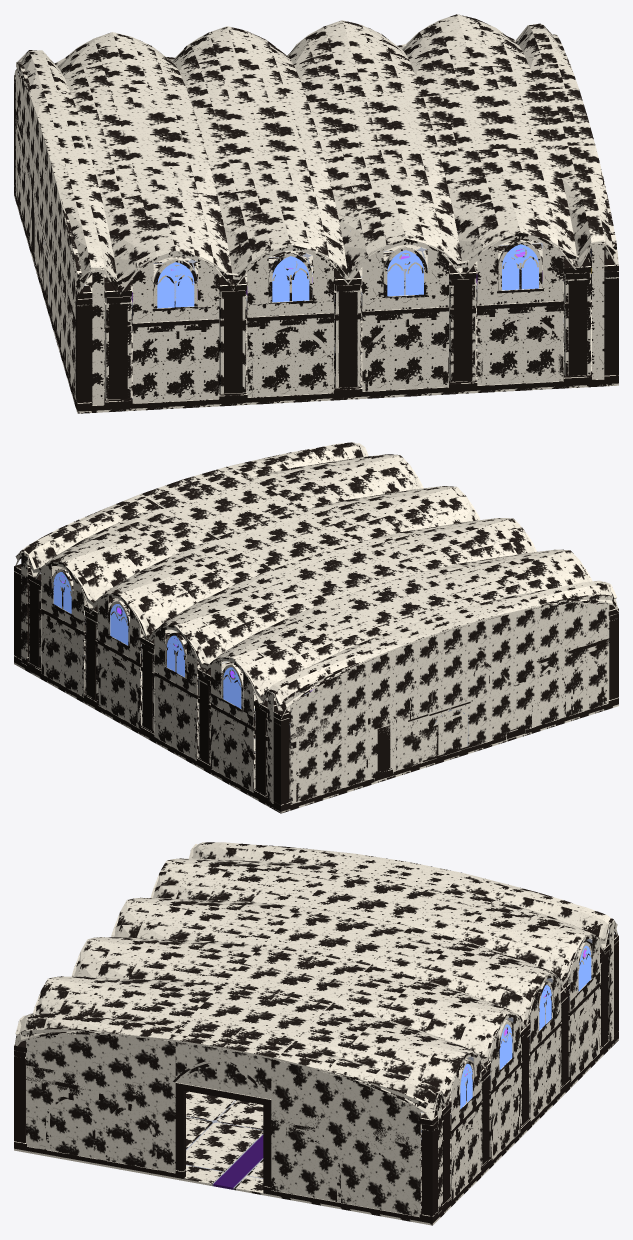
The model's file is ILHA3_03_MINING_HALL_4ec5f0.fbx.
3 views of the same model, one above another, from view 1: azimuth 30°, elevation 25°; view 2: azimuth 150°, elevation 25°; view 3: azimuth 270°, elevation 25° (orthographic). The views are drawn at different scales.
Parts seen in each view (by area): view 1: SG_Hall_Vault__Stone_SGHallVault, SG_Hall_Piers__Stone_SG_Castle, SG_Hall_Piers__Stone_SG_Castle_B, SG_Hall_Piers__Stone_SG_Obsidian, SG_Hall_Windows__Glass_SGHallMoon, SG_Hall_Piers__Stone_SG_Trim, SG_Hall_Piers__Stone_SGHallNiche, SG_Hall_Vault__Stone_SG_Obsidian, SG_Hall_Windows__Stone_SG_Trim, SG_Hall_Floor__Stone_SG_Obsidian, SG_Hall_Floor__Stone_SG_MarbleBlack; view 2: SG_Hall_Vault__Stone_SGHallVault, SG_Hall_Piers__Stone_SG_Castle, SG_Hall_Piers__Stone_SG_Castle_B, SG_Hall_Piers__Stone_SG_Obsidian, SG_Hall_Piers__Stone_SG_Trim, SG_Hall_Piers__Stone_SGHallNiche, SG_Hall_Windows__Glass_SGHallMoon, SG_Hall_Vault__Stone_SG_Obsidian, SG_Hall_Floor__Stone_SG_Obsidian, SG_Hall_Altar__Stone_SGHallNiche, SG_Hall_Windows__Stone_SG_Trim, SG_Hall_Throne__Stone_SG_Obsidian (+3 smaller); view 3: SG_Hall_Vault__Stone_SGHallVault, SG_Hall_Piers__Stone_SG_Castle, SG_Hall_Piers__Stone_SG_Castle_B, SG_Hall_Piers__Stone_SG_Obsidian, SG_Hall_Piers__Stone_SG_Trim, SG_Hall_Floor__Stone_SG_MarbleBlack, SG_Hall_Piers__Stone_SGHallNiche, SG_Hall_Floor__Stone_SG_Obsidian, SG_Hall_Vault__Stone_SG_Obsidian, SG_Hall_Windows__Glass_SGHallMoon, SG_Hall_Windows__Stone_SG_Trim, SG_Hall_Floor__Cloth_SG_Purple.
Part boxes in pixels (x1,y1,x2,y2): SG_Hall_Vault__Stone_SGHallVault: (14, 14, 618, 298); SG_Hall_Piers__Stone_SG_Castle: (14, 73, 618, 405); SG_Hall_Piers__Stone_SG_Castle_B: (127, 243, 568, 398); SG_Hall_Piers__Stone_SG_Obsidian: (14, 114, 618, 411); SG_Hall_Windows__Glass_SGHallMoon: (157, 244, 538, 308); SG_Hall_Piers__Stone_SG_Trim: (14, 75, 618, 401); SG_Hall_Piers__Stone_SGHallNiche: (15, 102, 610, 323); SG_Hall_Vault__Stone_SG_Obsidian: (16, 21, 616, 286); SG_Hall_Windows__Stone_SG_Trim: (152, 239, 543, 311); SG_Hall_Floor__Stone_SG_Obsidian: (14, 194, 618, 413); SG_Hall_Floor__Stone_SG_MarbleBlack: (85, 238, 563, 397); SG_Hall_Vault__Stone_SGHallVault: (15, 442, 618, 718); SG_Hall_Piers__Stone_SG_Castle: (21, 552, 618, 804); SG_Hall_Piers__Stone_SG_Castle_B: (14, 560, 273, 803); SG_Hall_Piers__Stone_SG_Obsidian: (14, 575, 618, 811); SG_Hall_Piers__Stone_SG_Trim: (14, 564, 618, 802); SG_Hall_Piers__Stone_SGHallNiche: (41, 570, 609, 738); SG_Hall_Windows__Glass_SGHallMoon: (53, 572, 241, 708); SG_Hall_Vault__Stone_SG_Obsidian: (15, 443, 617, 706); SG_Hall_Floor__Stone_SG_Obsidian: (14, 629, 618, 813); SG_Hall_Altar__Stone_SGHallNiche: (396, 653, 492, 770); SG_Hall_Windows__Stone_SG_Trim: (51, 568, 243, 711); SG_Hall_Throne__Stone_SG_Obsidian: (410, 708, 489, 770); SG_Hall_Vault__Stone_SGHallVault: (14, 842, 618, 1123); SG_Hall_Piers__Stone_SG_Castle: (14, 936, 618, 1213); SG_Hall_Piers__Stone_SG_Castle_B: (271, 921, 613, 1216); SG_Hall_Piers__Stone_SG_Obsidian: (14, 975, 618, 1223); SG_Hall_Piers__Stone_SG_Trim: (14, 933, 618, 1206); SG_Hall_Floor__Stone_SG_MarbleBlack: (186, 1035, 530, 1206); SG_Hall_Piers__Stone_SGHallNiche: (26, 972, 599, 1146); SG_Hall_Floor__Stone_SG_Obsidian: (14, 1019, 618, 1225); SG_Hall_Vault__Stone_SG_Obsidian: (15, 844, 617, 1109); SG_Hall_Windows__Glass_SGHallMoon: (460, 945, 591, 1108); SG_Hall_Windows__Stone_SG_Trim: (459, 942, 593, 1111); SG_Hall_Floor__Cloth_SG_Purple: (213, 1135, 263, 1189).
Size of the model in its own units: 114 by 28.65 by 112.
9 materials, 1 textured.
